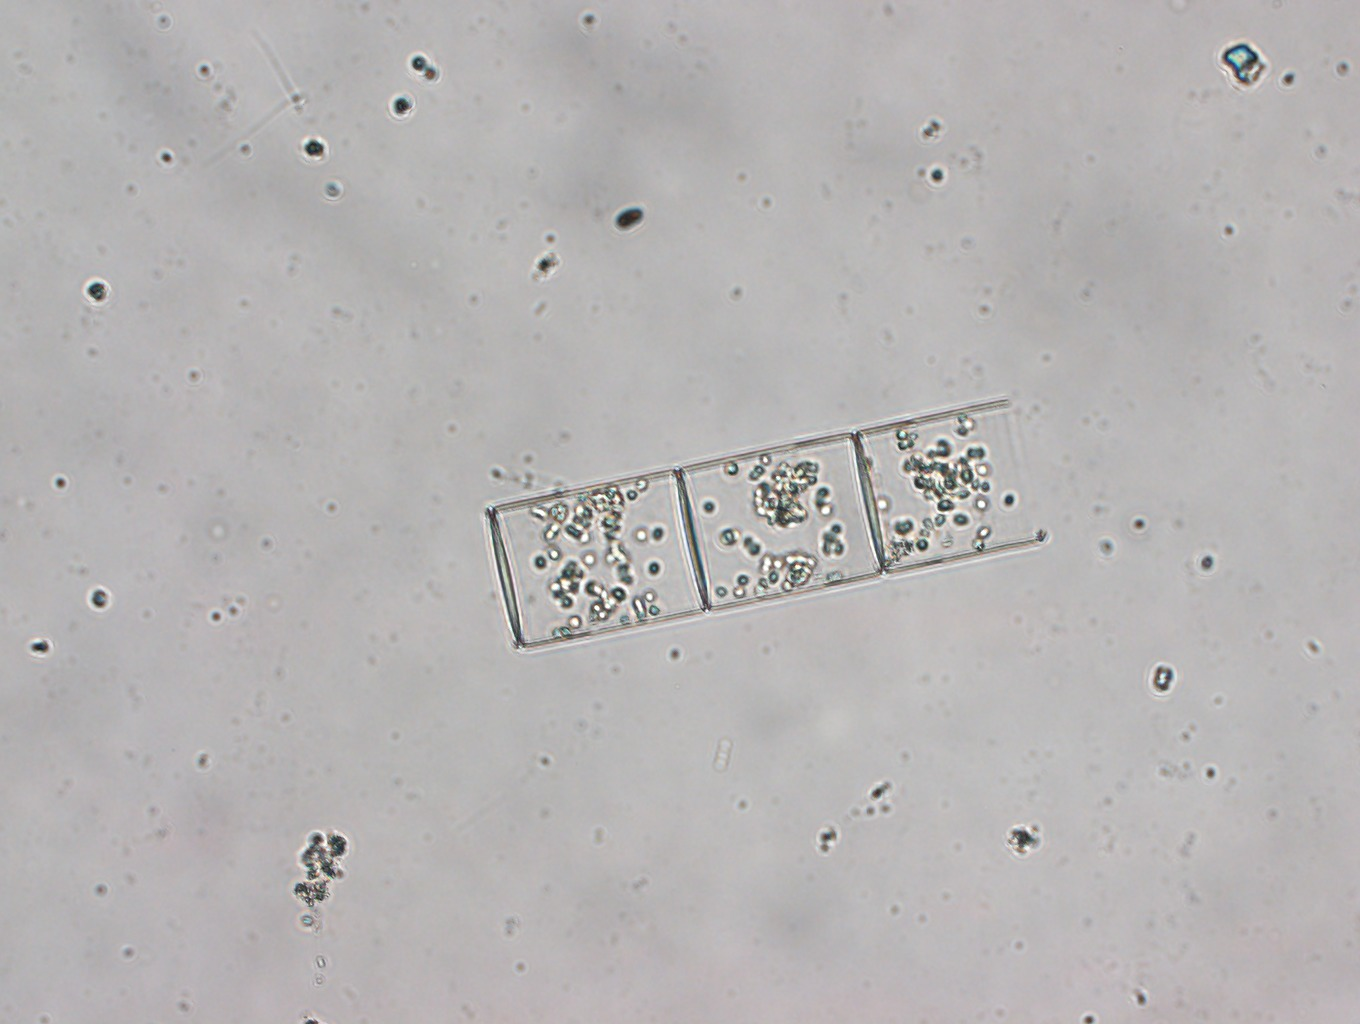guinardia flaccida: (486, 398, 1036, 651)
